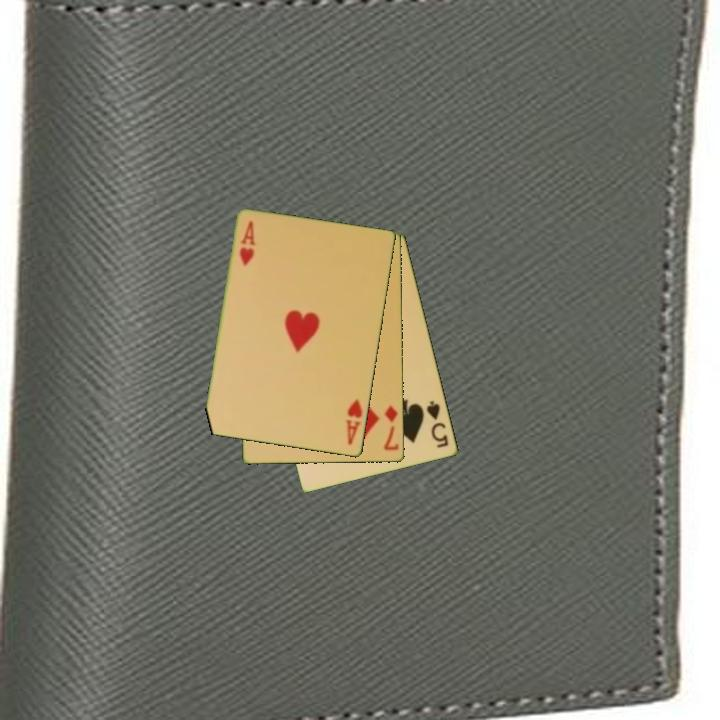5s: (423, 397, 452, 451)
7d: (381, 402, 402, 453)
Ah: (343, 395, 365, 448), (236, 217, 258, 269)
